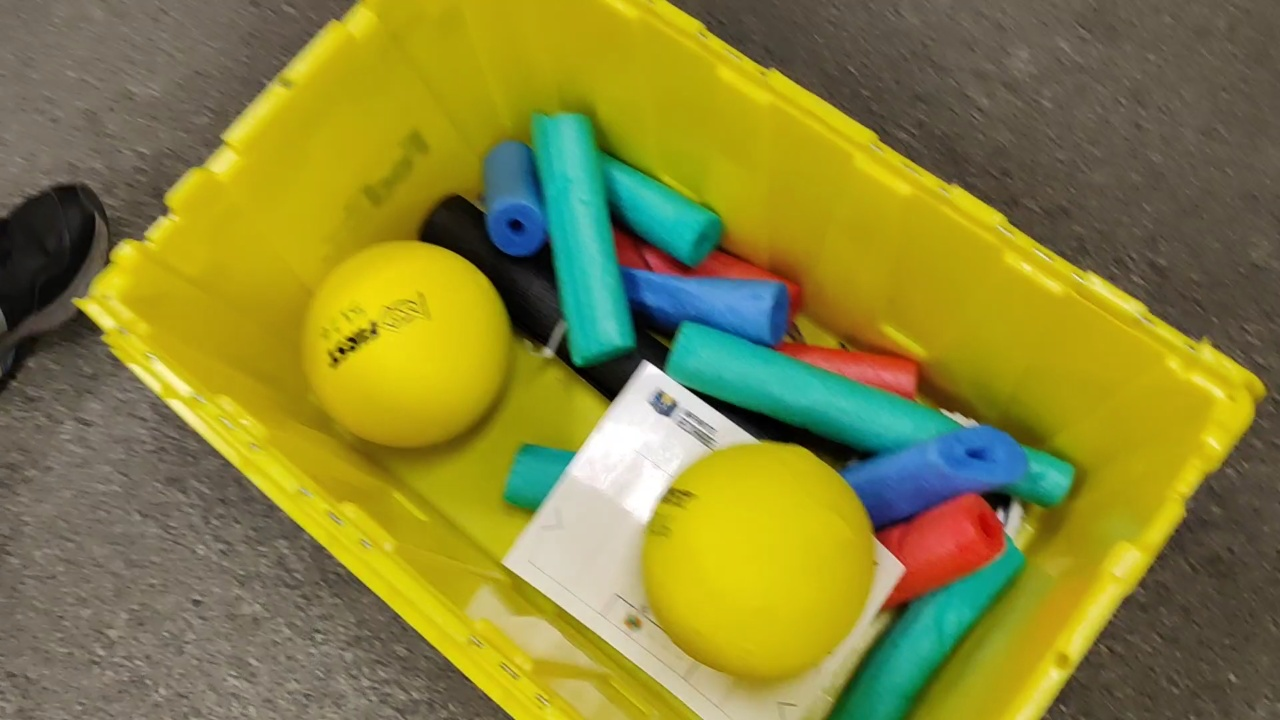Ball: (639, 444, 866, 676), (302, 244, 511, 454)
